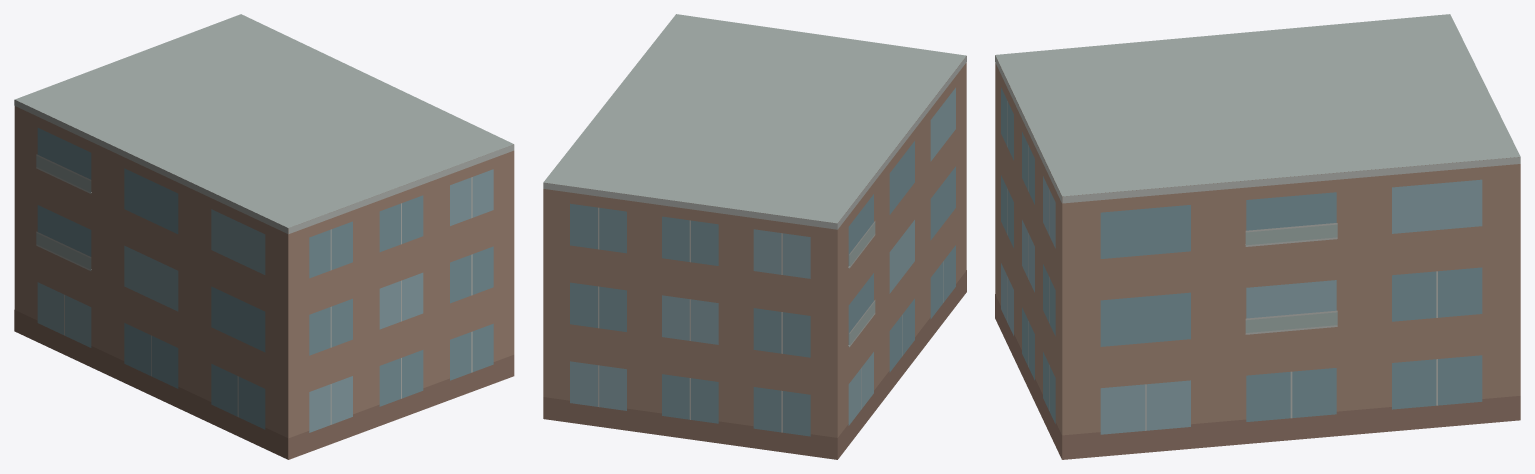
File: survey-upis-32878166.glb
3 views of the same model, side by side, from view 1: azimuth 30°, elevation 25°; view 2: azimuth 150°, elevation 25°; view 3: azimuth 270°, elevation 25° (orthographic). The views are drawn at different scales.
Parts seen in each view (by area): view 1: survey-upis-32878166.tmp; view 2: survey-upis-32878166.tmp; view 3: survey-upis-32878166.tmp.
Part boxes in pixels (bbox=[...]): survey-upis-32878166.tmp: bbox=[14, 14, 514, 459]; survey-upis-32878166.tmp: bbox=[543, 14, 966, 459]; survey-upis-32878166.tmp: bbox=[995, 14, 1520, 459].
Bounding box in the file's own units: 13.6 × 9.15 × 16.56.
